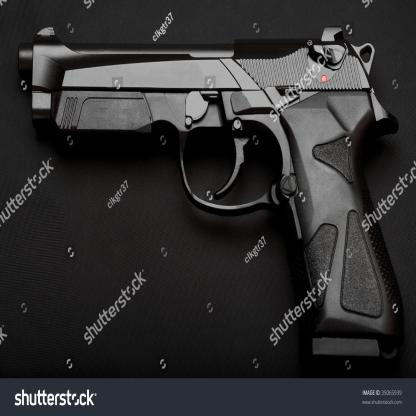handgun: (19, 25, 403, 362)
